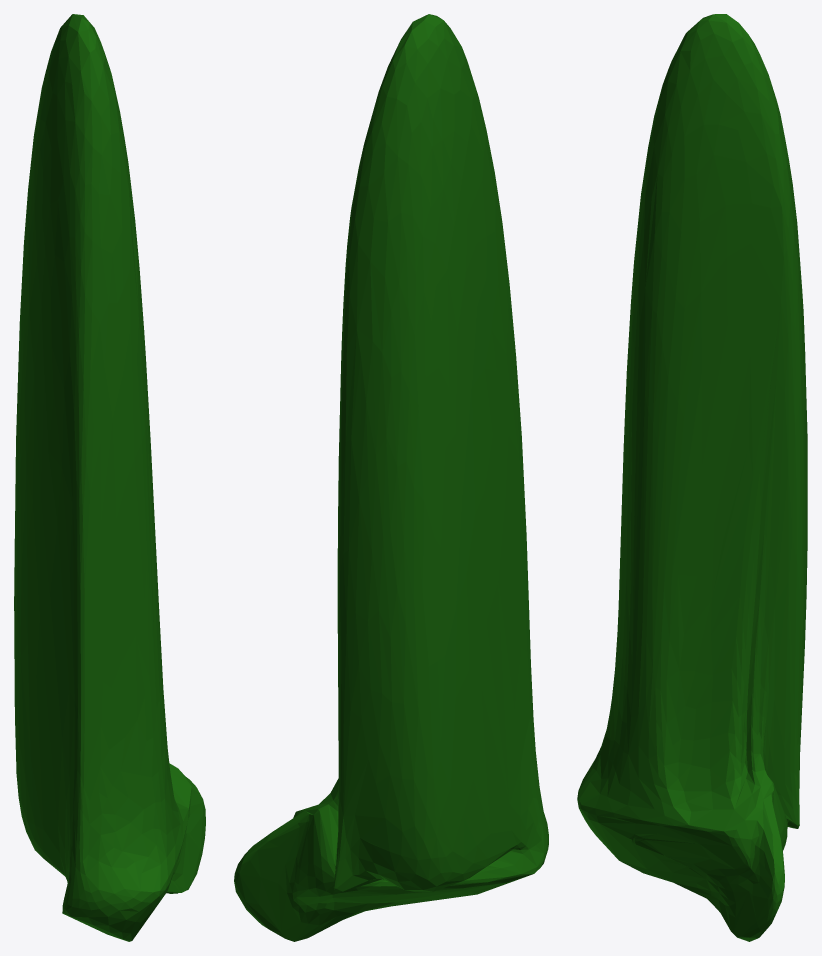
The picture shows the model from 3 angles, left to right: view 1: azimuth 30°, elevation 25°; view 2: azimuth 150°, elevation 25°; view 3: azimuth 270°, elevation 25°; orthographic projection. The views are drawn at different scales.
Parts seen in each view (by area): view 1: 033_Cube.142; view 2: 033_Cube.142; view 3: 033_Cube.142.
Part boxes in pixels (x1=…): 033_Cube.142: x1=14, y1=14, x2=205, y2=941; 033_Cube.142: x1=234, y1=14, x2=548, y2=941; 033_Cube.142: x1=577, y1=14, x2=807, y2=941.
Bounding box in the file's own units: 2.98 × 11.85 × 2.83.
